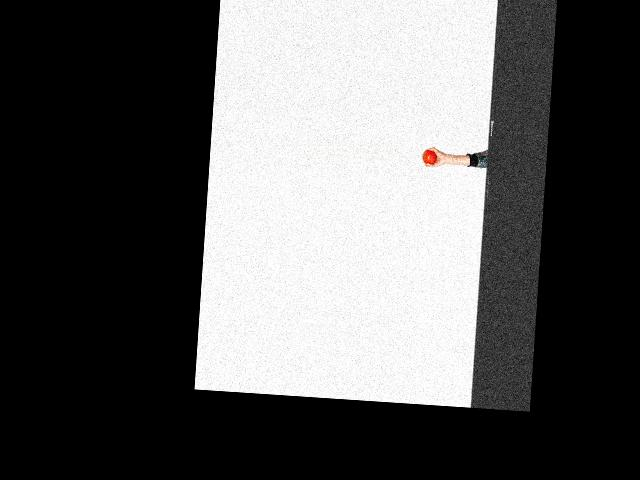tomato: (421, 149, 437, 165)
